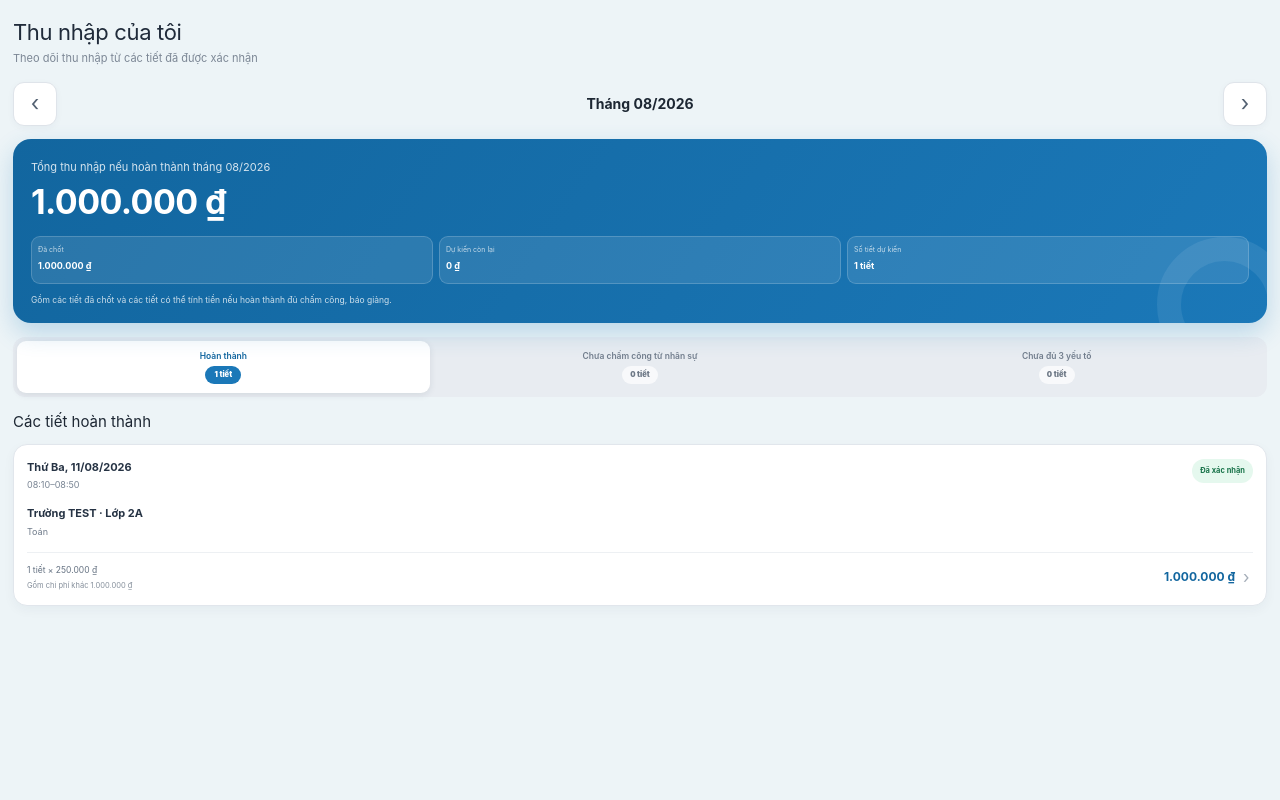
Test: TeacherIncomeScreen › hiển thị chi phí khác và totalAmount backend trong danh sách lẫn bottom sheet
Expected: the 1st text "1.000.000 ₫" is shown, x1=31 y1=181 x2=226 y2=222
Expected: the text "Gồm chi phí khác 1.000.000 ₫" is shown, x1=27 y1=581 x2=132 y2=590
Click the button with aria-label "Xem chi tiết thu nhập ngày 11/08/2026".
click(640, 525)  # box x1=13 y1=444 x2=1267 y2=606
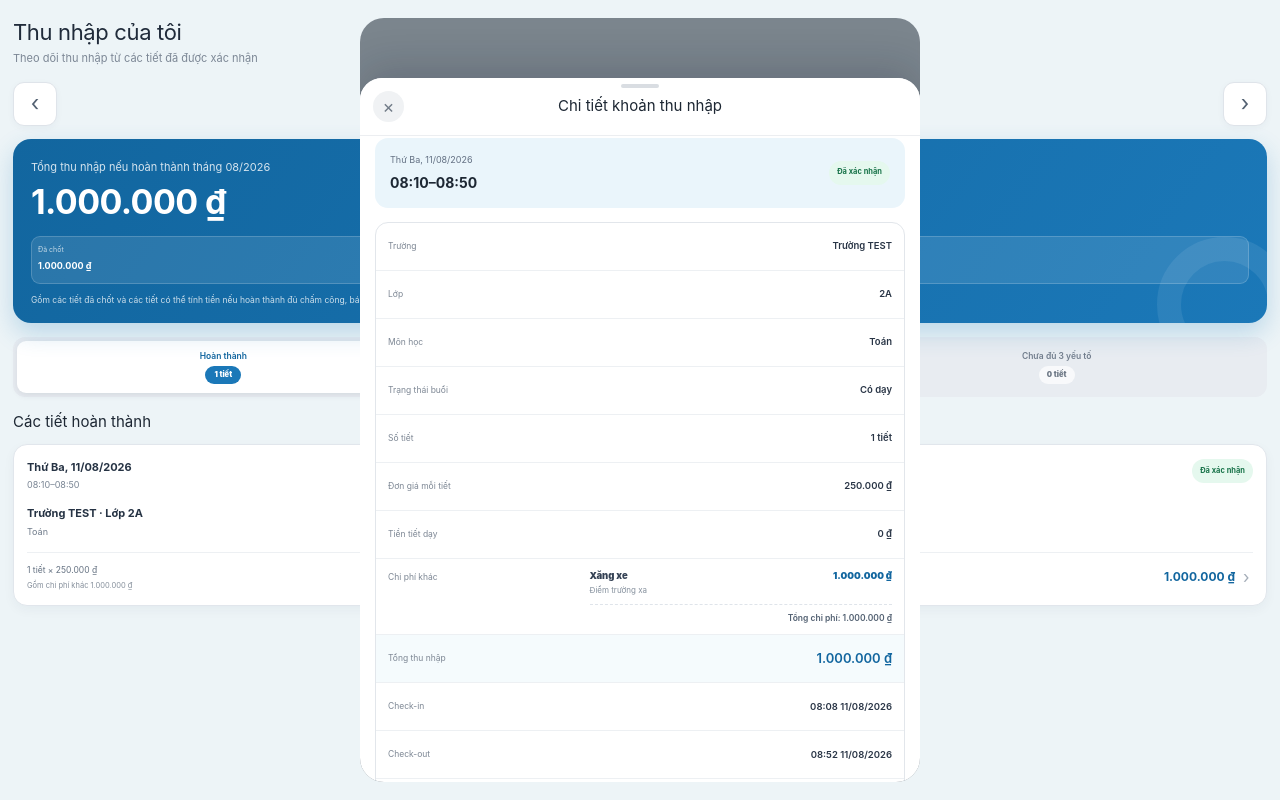
Expected: the text "Tiền tiết dạy" is shown, x1=388 y1=529 x2=438 y2=539
Expected: the text "Chi phí khác" is shown, x1=388 y1=572 x2=438 y2=582
Expected: the text "Xăng xe" is shown, x1=590 y1=570 x2=628 y2=580
